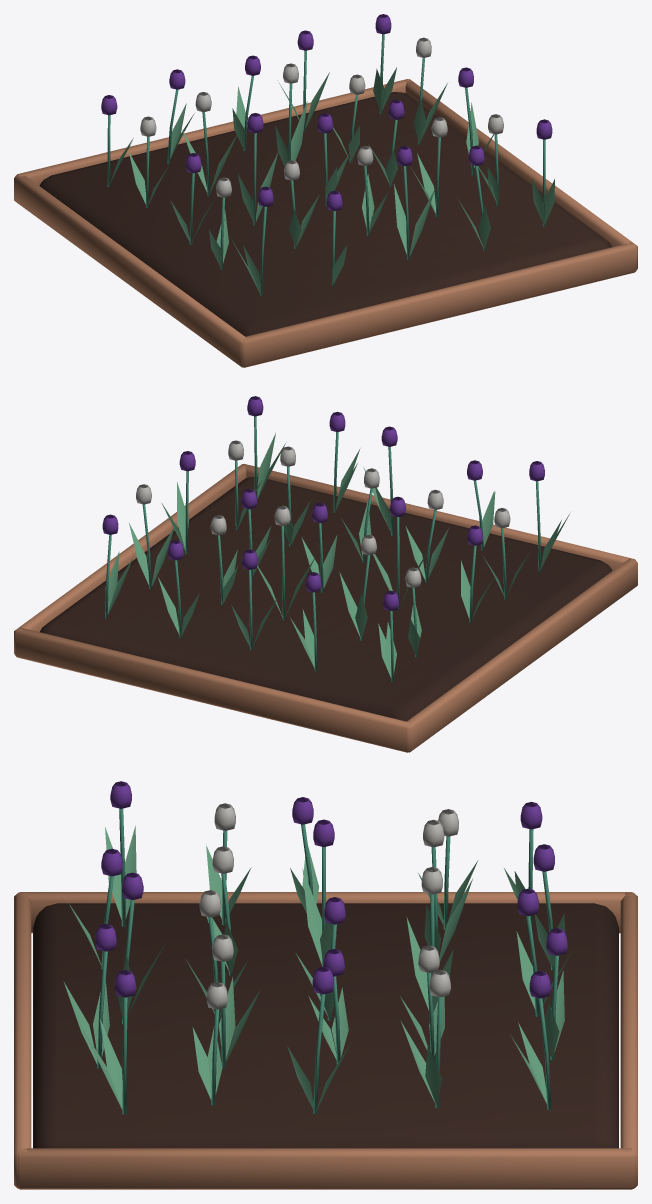
Rendered from tulip_bed.glb.
The picture shows the model from 3 angles, top to bottom: view 1: azimuth 30°, elevation 25°; view 2: azimuth 150°, elevation 25°; view 3: azimuth 270°, elevation 25°; orthographic projection. The views are drawn at different scales.
Visible parts, largest first — view 1: tulip_bed; view 2: tulip_bed; view 3: tulip_bed.
Part boxes in pixels (box(x1,y1,x2,y2)): tulip_bed: box(14, 14, 637, 367); tulip_bed: box(14, 396, 637, 752); tulip_bed: box(14, 781, 637, 1189).
Size of what is drawn, in the model's own units: 1.81 by 0.648 by 1.81.
